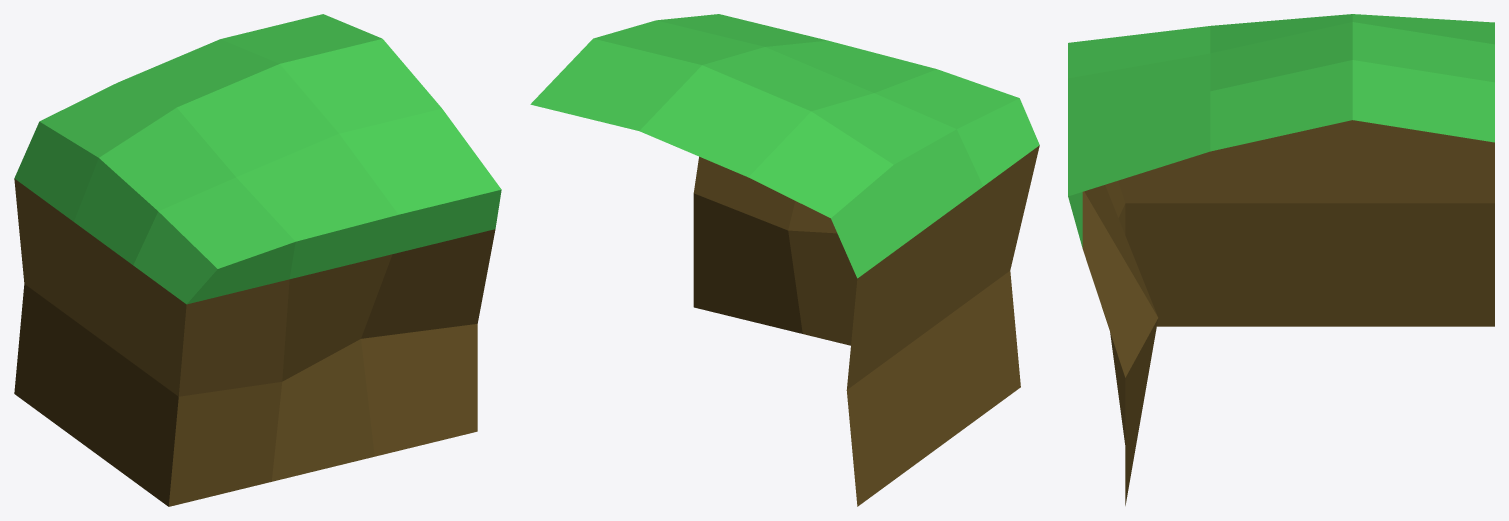
The model's file is Platformer_LU.fbx.
The picture shows the model from 3 angles, left to right: view 1: azimuth 30°, elevation 25°; view 2: azimuth 150°, elevation 25°; view 3: azimuth 270°, elevation 25°; orthographic projection. The views are drawn at different scales.
Parts seen in each view (by area): view 1: Platformer_LU; view 2: Platformer_LU; view 3: Platformer_LU.
Part boxes in pixels (x1,y1,x2,y2): Platformer_LU: [14, 14, 501, 506]; Platformer_LU: [530, 14, 1039, 506]; Platformer_LU: [1068, 14, 1494, 505].
Bounding box in the file's own units: 200 × 200 × 200.
